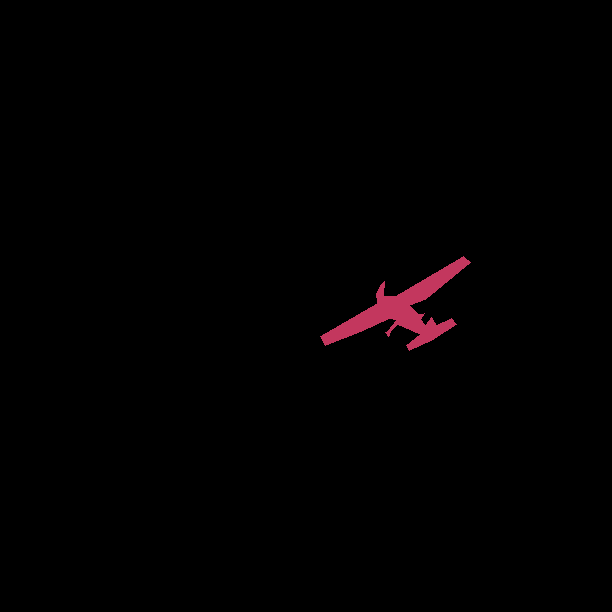Airplane: (320, 256, 471, 350)
